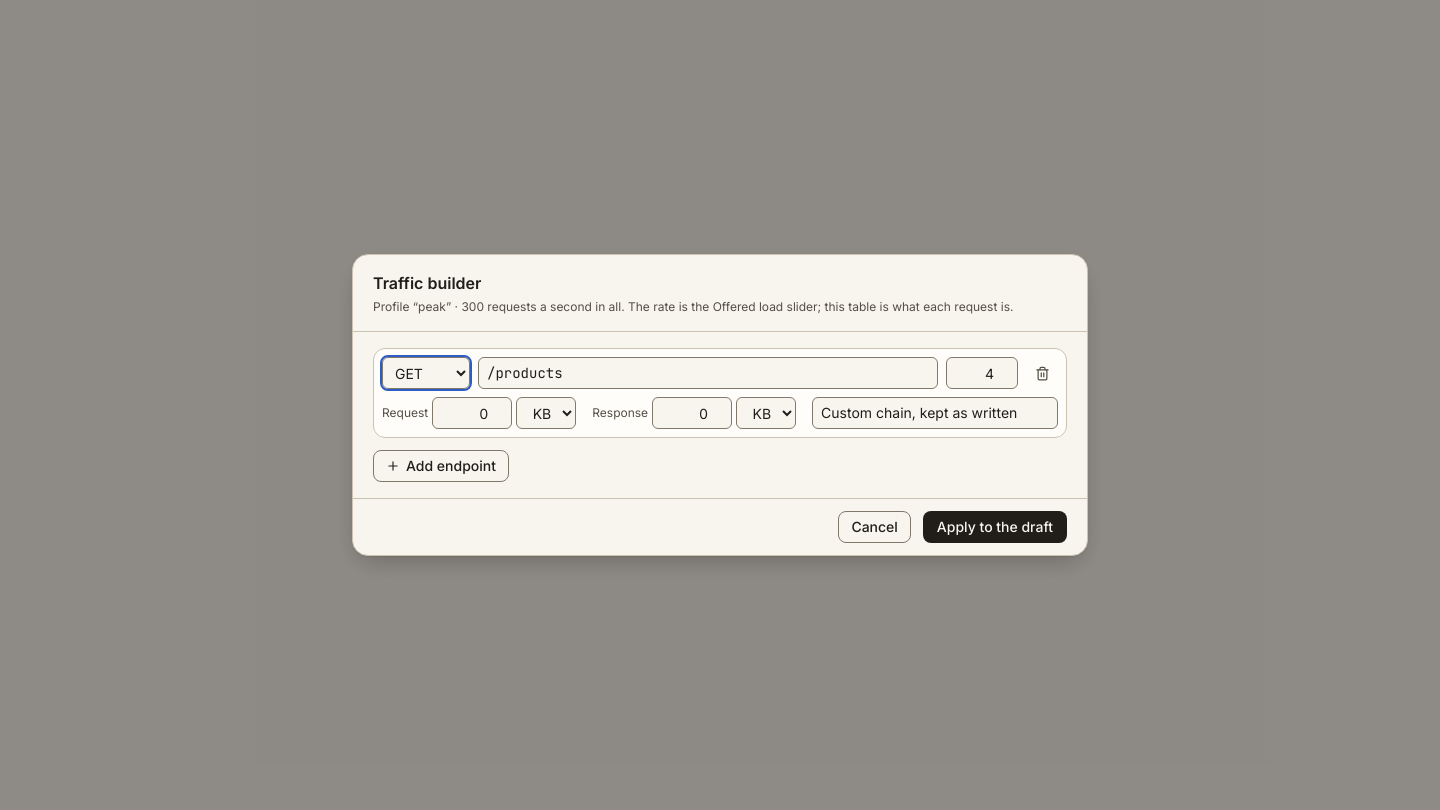
Test: a_chain_written_by_hand_is_kept_unless_replaced
Click the button with aria-label "Services behind endpoint 1": (935, 413) [812, 397, 1058, 429]
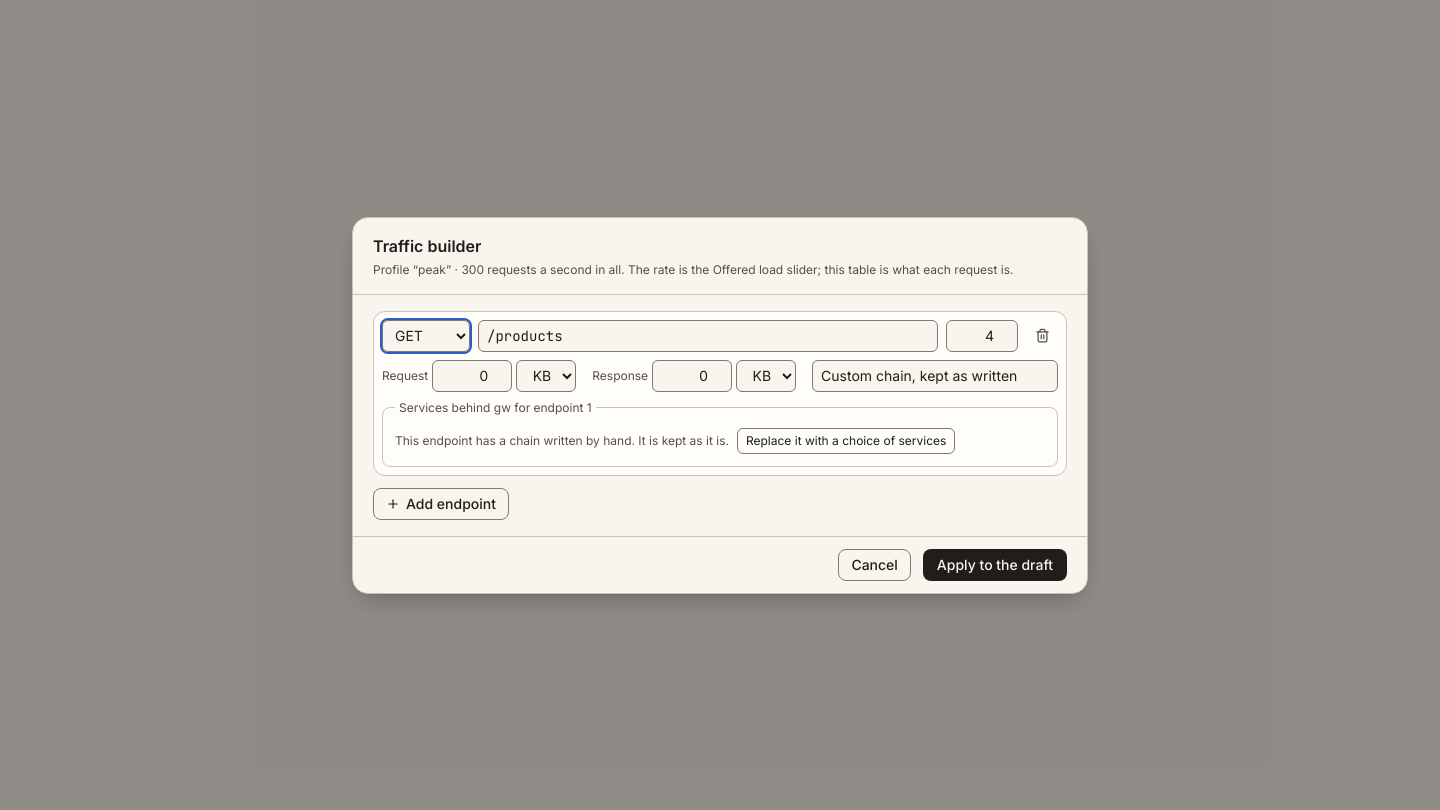
Click the button "Replace it with a choice of services": (846, 440) [737, 428, 955, 454]
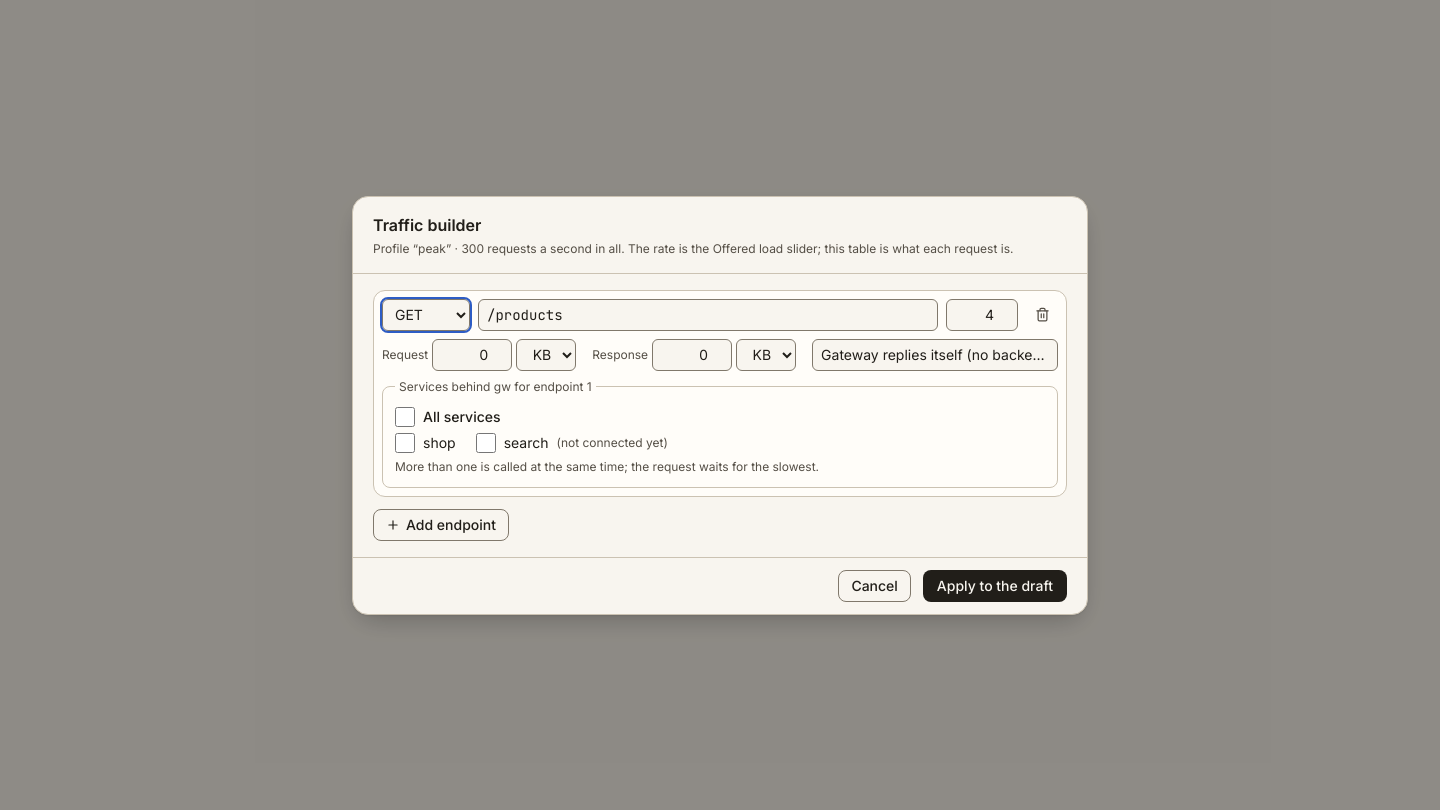
Expected: the button with aria-label "Services behind endpoint 1: Gateway replies itself" is shown, [812, 338, 1058, 370]
